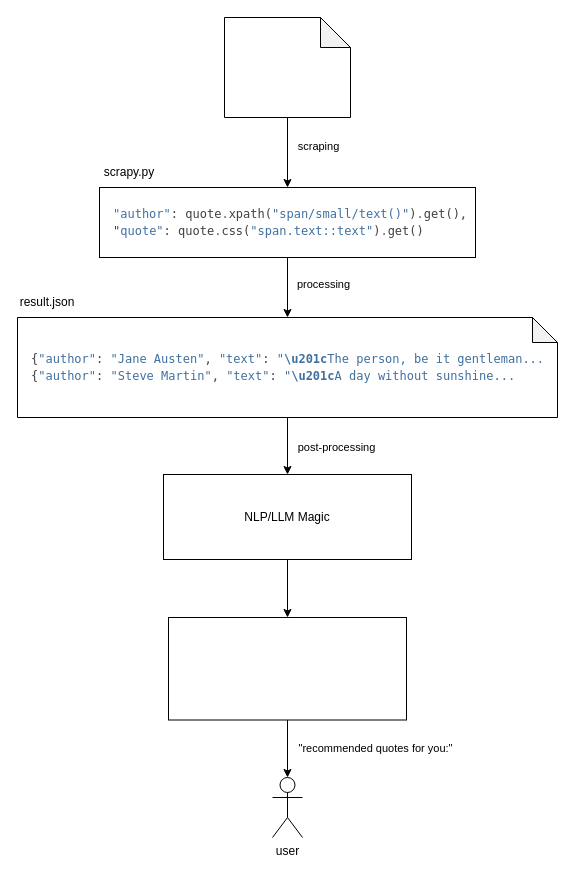
Image size: 581x876. Some labels were removed from this diagram. Each missing label, with the centre of its shape:
famous_quotes.html: the point at 287,67
recommender system: the point at 287,668
